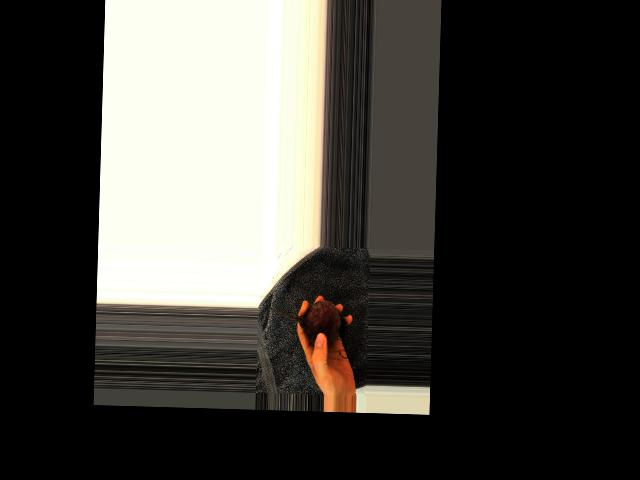beet: (267, 297, 346, 348)
